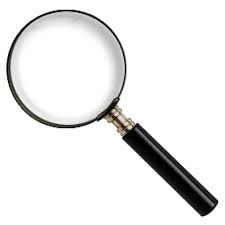searchIcon: (5, 7, 219, 218)
